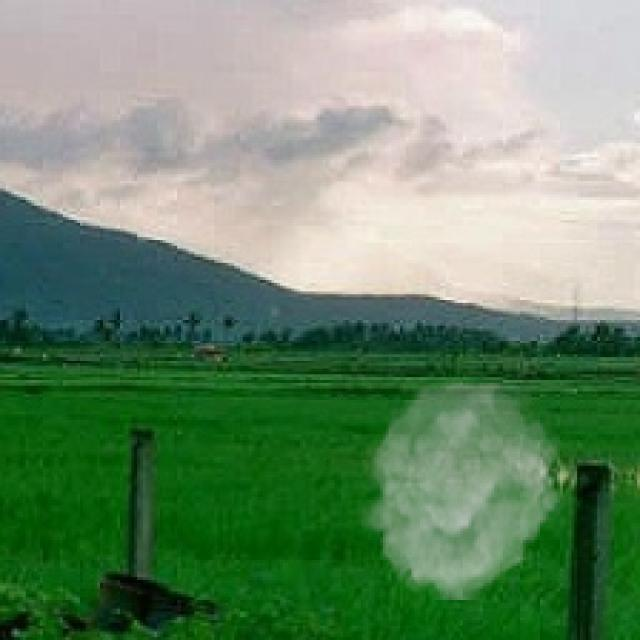smoke: (357, 383, 569, 600)
